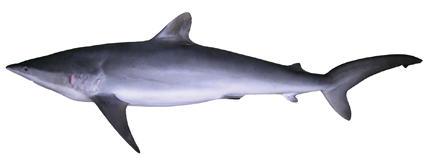fish: (7, 12, 423, 153)
